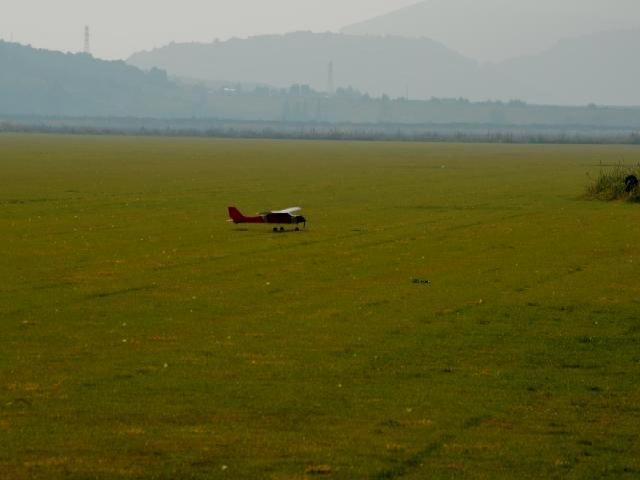iha: (226, 205, 316, 233)
